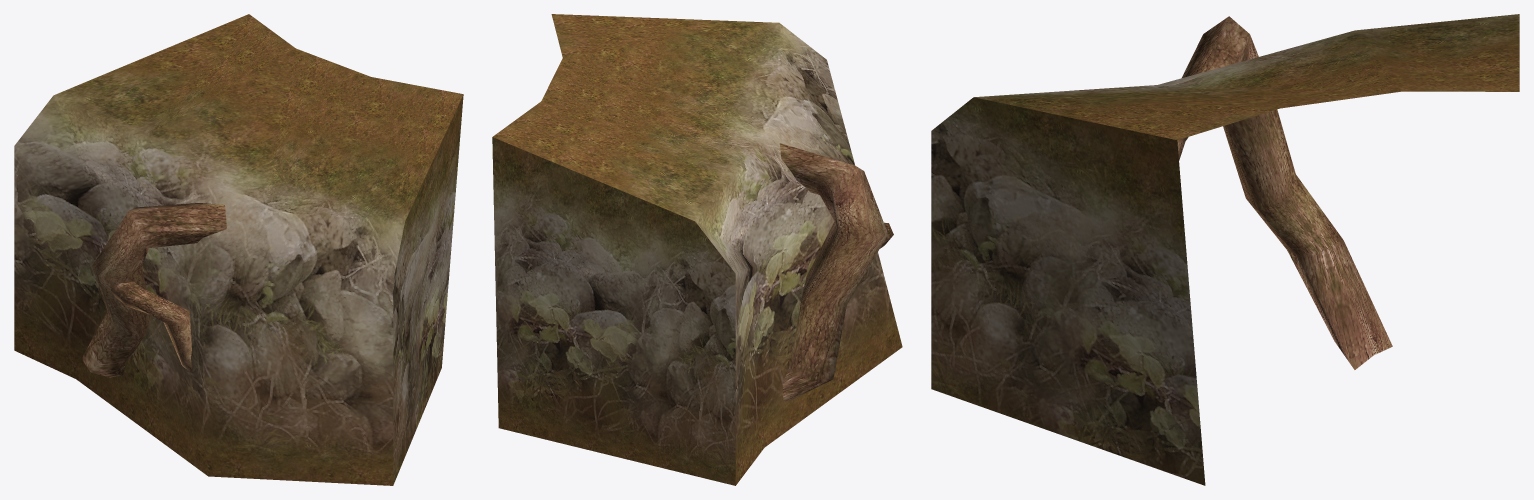
The model's file is n_tilewallC_1.glb.
3 renders of one model, left to right at view 1: azimuth 30°, elevation 25°; view 2: azimuth 150°, elevation 25°; view 3: azimuth 270°, elevation 25°, orthographic. The views are drawn at different scales.
Parts seen in each view (by area): view 1: n_tilewallC_1; view 2: n_tilewallC_1; view 3: n_tilewallC_1.
Boxes of the visible parts, x1=… form: n_tilewallC_1: x1=14, y1=14, x2=463, y2=485; n_tilewallC_1: x1=492, y1=14, x2=902, y2=485; n_tilewallC_1: x1=931, y1=14, x2=1519, y2=485.
Bounding box in the file's own units: 4.4 × 3.41 × 5.17.
Materials: 2 (2 with a texture image).
